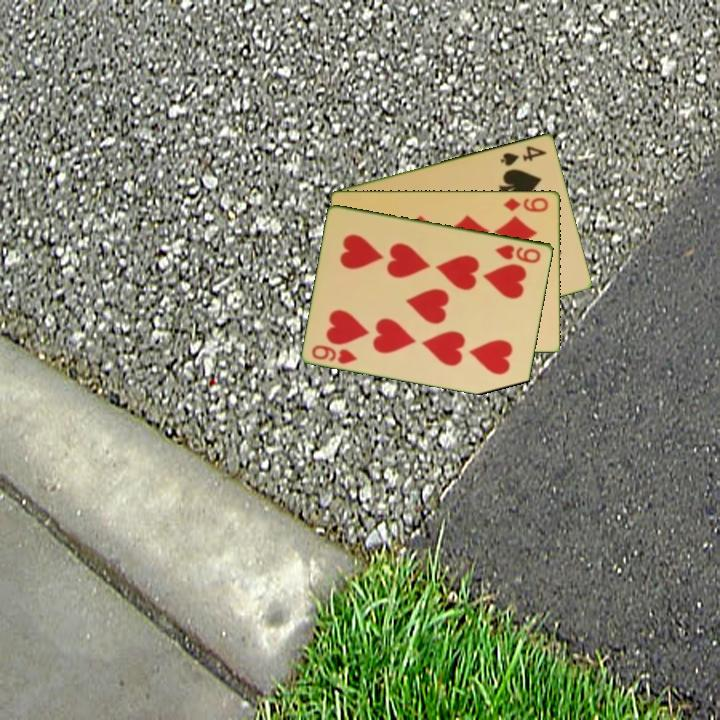4s: (497, 142, 550, 168)
9d: (500, 194, 551, 214)
9h: (309, 341, 360, 367), (492, 241, 544, 266)
